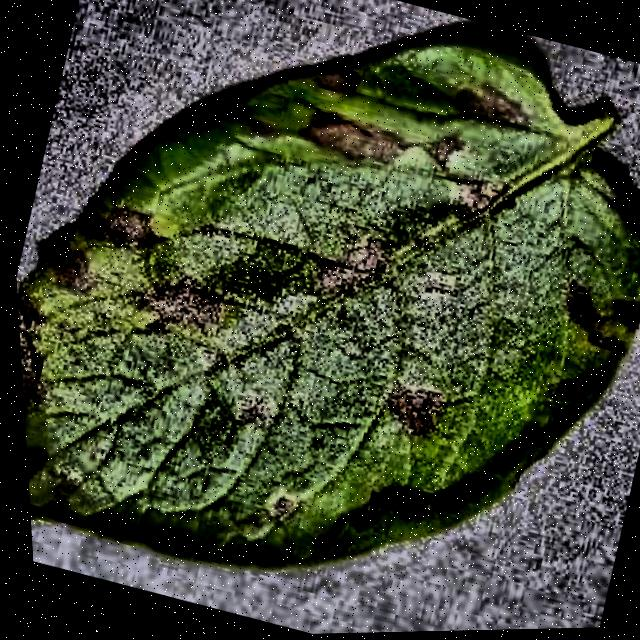Potato_leaf_early_blight: (19, 45, 640, 568)
